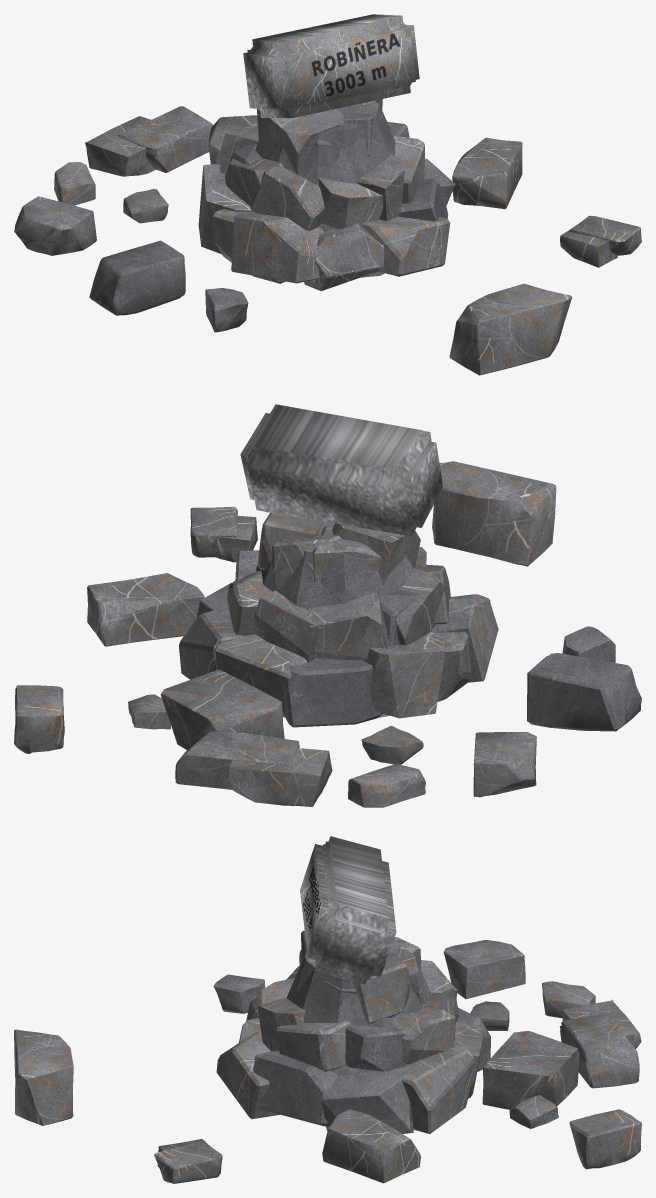
The model's file is cima-robinera.glb.
3 renders of one model, top to bottom at view 1: azimuth 30°, elevation 25°; view 2: azimuth 150°, elevation 25°; view 3: azimuth 270°, elevation 25°, orthographic. The views are drawn at different scales.
Parts seen in each view (by area): view 1: hito_caliza_vetas, placa_robinera, bloque12, hito_caliza_gris, bloque1, bloque0, bloque10, bloque9, bloque6, bloque4, bloque3, bloque7 (+3 smaller); view 2: hito_caliza_vetas, placa_robinera, hito_caliza_gris, bloque12, bloque1, bloque0, bloque2, bloque9, bloque6, bloque10, bloque13, bloque7 (+5 smaller); view 3: hito_caliza_vetas, hito_caliza_gris, placa_robinera, bloque2, bloque12, bloque0, bloque9, bloque10, bloque13, bloque4, bloque3, bloque7 (+3 smaller).
Part boxes in pixels (x1=…): hito_caliza_vetas: x1=198, y1=99, x2=450, y2=291; placa_robinera: x1=243, y1=14, x2=419, y2=117; bloque12: x1=449, y1=283, x2=572, y2=375; hito_caliza_gris: x1=230, y1=101, x2=455, y2=281; bloque1: x1=89, y1=240, x2=185, y2=315; bloque0: x1=452, y1=137, x2=522, y2=209; bloque10: x1=14, y1=196, x2=96, y2=255; bloque9: x1=117, y1=106, x2=212, y2=172; bloque6: x1=85, y1=116, x2=155, y2=176; bloque4: x1=570, y1=215, x2=641, y2=255; bloque3: x1=205, y1=288, x2=248, y2=332; bloque7: x1=54, y1=162, x2=95, y2=205; hito_caliza_vetas: x1=179, y1=512, x2=498, y2=718; placa_robinera: x1=240, y1=404, x2=442, y2=536; hito_caliza_gris: x1=196, y1=521, x2=435, y2=727; bloque12: x1=432, y1=461, x2=556, y2=566; bloque1: x1=527, y1=653, x2=641, y2=731; bloque0: x1=87, y1=573, x2=204, y2=646; bloque2: x1=160, y1=669, x2=284, y2=749; bloque9: x1=175, y1=731, x2=299, y2=789; bloque6: x1=228, y1=748, x2=332, y2=806; bloque10: x1=473, y1=732, x2=536, y2=797; bloque13: x1=14, y1=685, x2=64, y2=753; bloque7: x1=348, y1=764, x2=425, y2=807; hito_caliza_vetas: x1=216, y1=937, x2=484, y2=1133; hito_caliza_gris: x1=253, y1=953, x2=490, y2=1133; placa_robinera: x1=300, y1=836, x2=396, y2=984; bloque2: x1=482, y1=1031, x2=579, y2=1109; bloque12: x1=14, y1=1029, x2=73, y2=1125; bloque0: x1=322, y1=1109, x2=420, y2=1183; bloque9: x1=559, y1=1013, x2=639, y2=1088; bloque10: x1=443, y1=940, x2=525, y2=998; bloque13: x1=569, y1=1109, x2=641, y2=1169; bloque4: x1=154, y1=1141, x2=222, y2=1183; bloque3: x1=213, y1=974, x2=265, y2=1013; bloque7: x1=542, y1=981, x2=595, y2=1018.
Bounding box in the file's own units: 3.66 × 1.74 × 4.29.
Materials: 3 (3 with a texture image).
